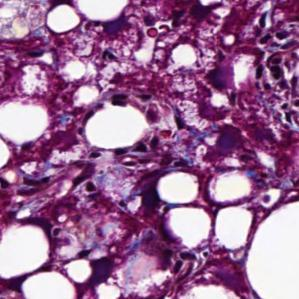inflammation: (15, 158, 99, 209), (250, 48, 299, 127), (104, 88, 155, 113)
